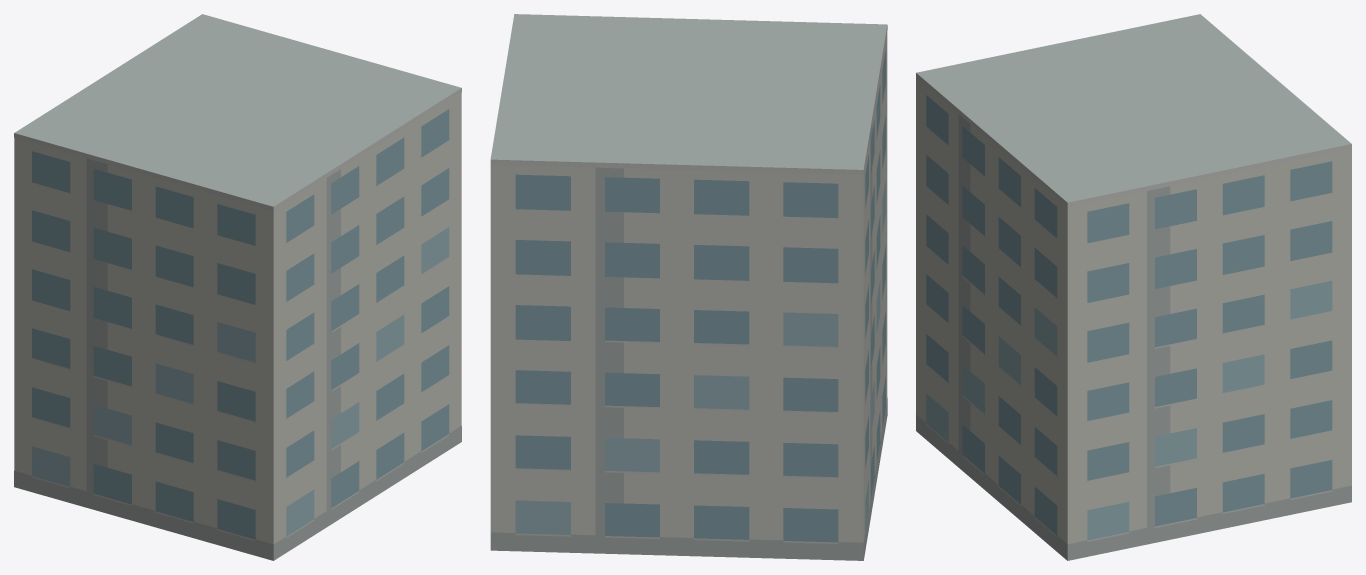
The model's file is survey-upis-32698834.glb.
3 views of the same model, side by side, from view 1: azimuth 30°, elevation 25°; view 2: azimuth 150°, elevation 25°; view 3: azimuth 270°, elevation 25° (orthographic). The views are drawn at different scales.
Parts seen in each view (by area): view 1: survey-upis-32698834.tmp; view 2: survey-upis-32698834.tmp; view 3: survey-upis-32698834.tmp.
Boxes of the visible parts, x1,y1,x2,y2 form: survey-upis-32698834.tmp: [14, 14, 461, 560]; survey-upis-32698834.tmp: [490, 14, 887, 560]; survey-upis-32698834.tmp: [916, 14, 1351, 560].
Bounding box in the file's own units: 20.67 × 18.3 × 20.18.
